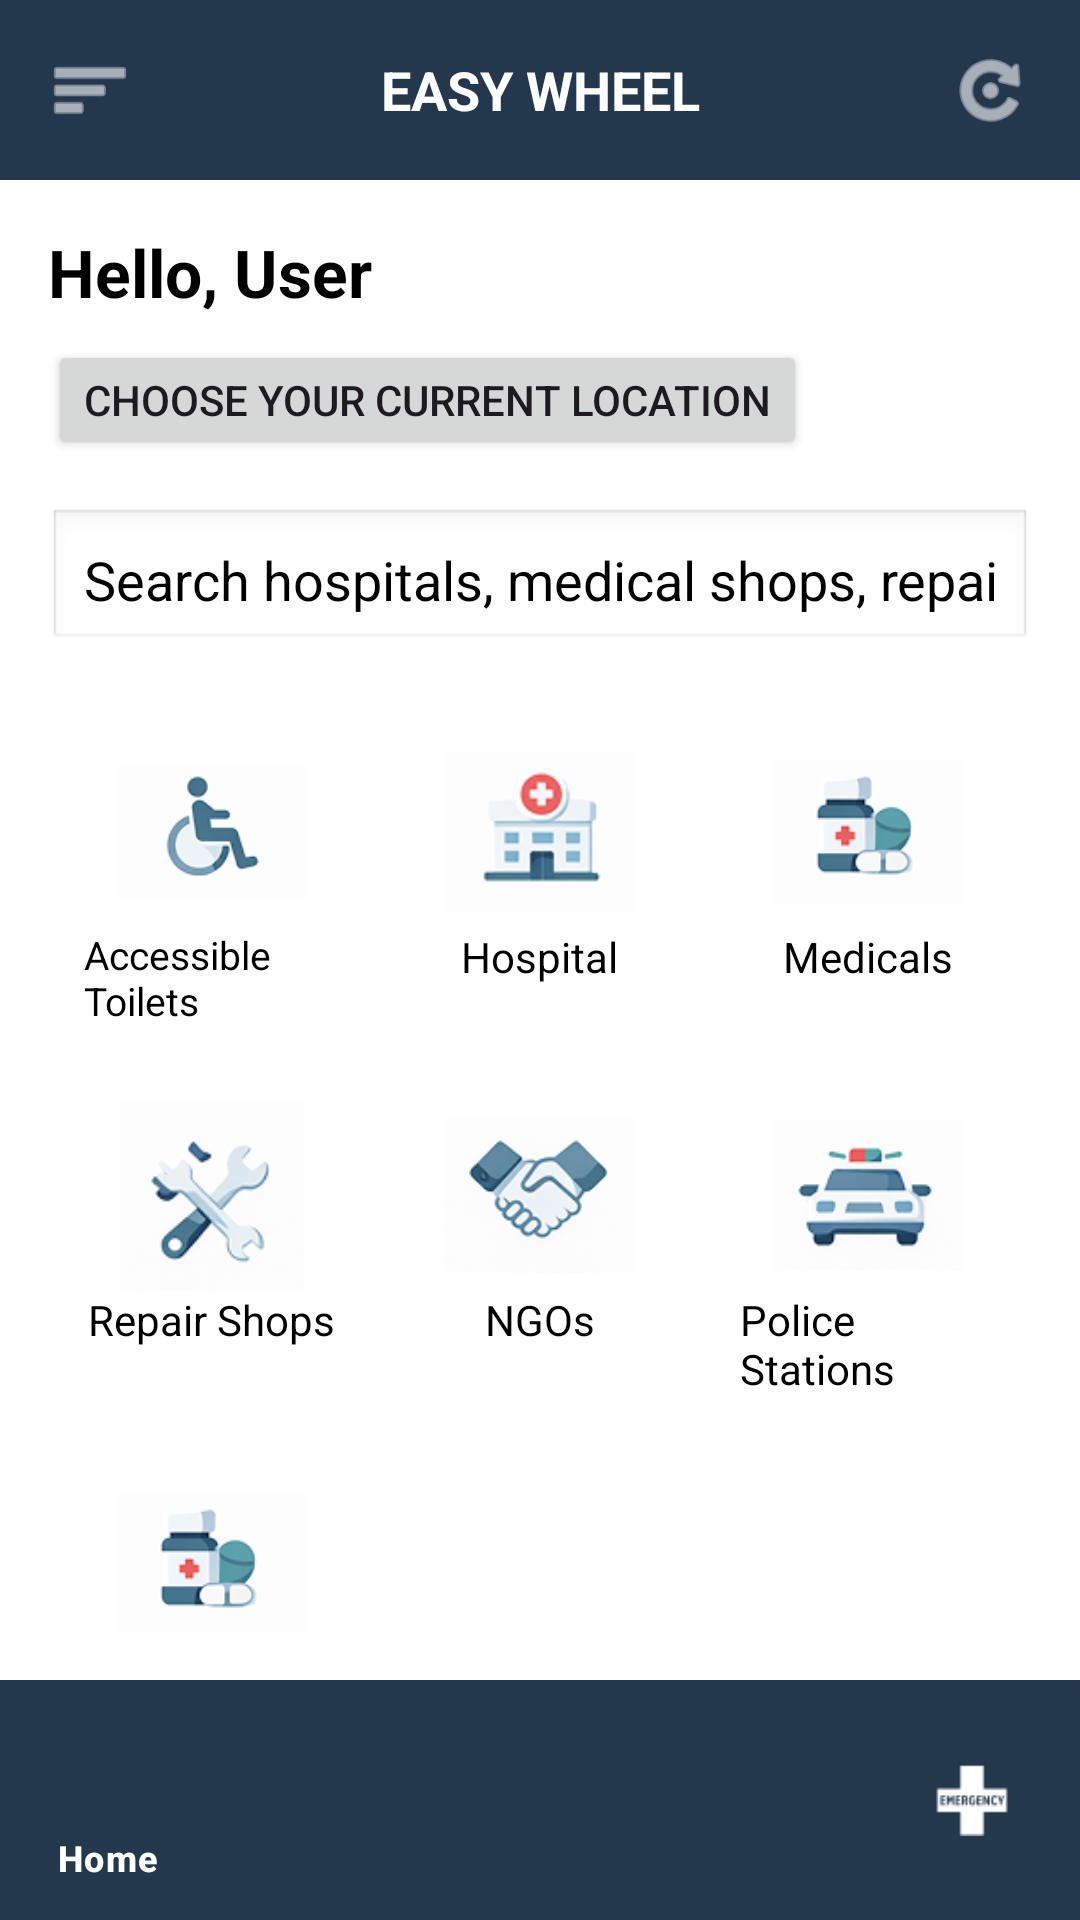

Icon bounding boxes for this 1080w x 1920h phone screenshot, format (x1, y1, x2, y2):
Menu: (54, 67, 126, 114)
refresh: (959, 59, 1021, 122)
